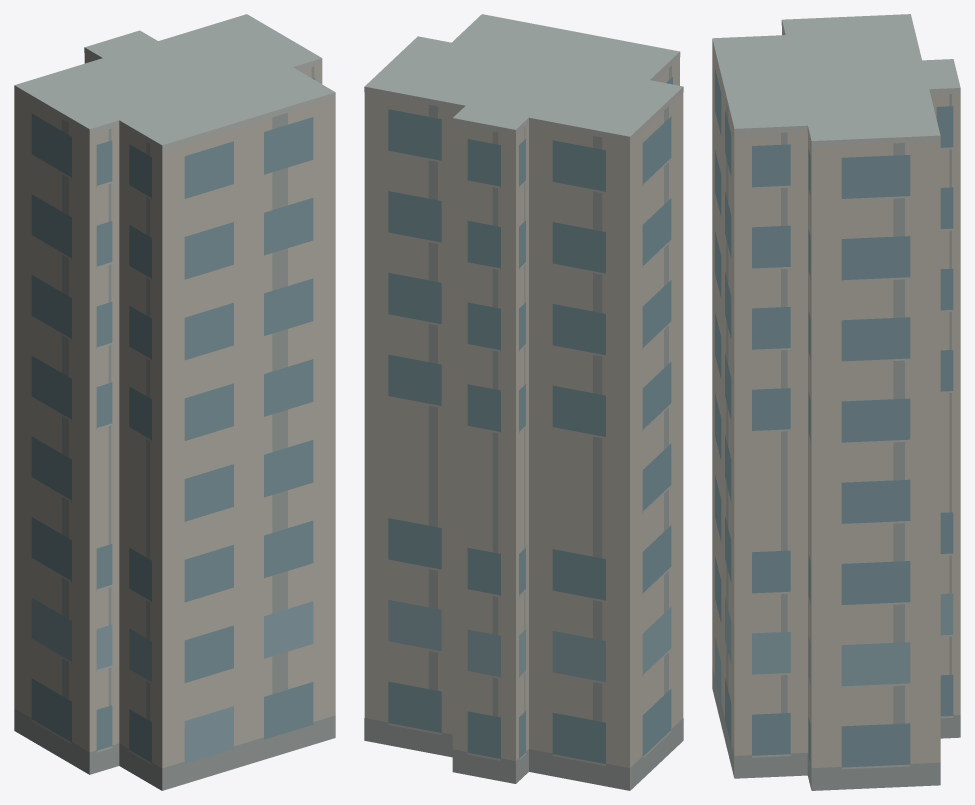
Rendered from survey-upis-32621890.glb.
3 renders of one model, left to right at view 1: azimuth 30°, elevation 25°; view 2: azimuth 150°, elevation 25°; view 3: azimuth 270°, elevation 25°, orthographic.
Visible parts, largest first — view 1: survey-upis-32621890.tmp; view 2: survey-upis-32621890.tmp; view 3: survey-upis-32621890.tmp.
Boxes of the visible parts, left/top/right/bottom form: survey-upis-32621890.tmp: left=14, top=14, right=335, bottom=790; survey-upis-32621890.tmp: left=364, top=14, right=683, bottom=790; survey-upis-32621890.tmp: left=712, top=14, right=960, bottom=790.
Bounding box in the file's own units: 11.46 × 27.3 × 9.47.
